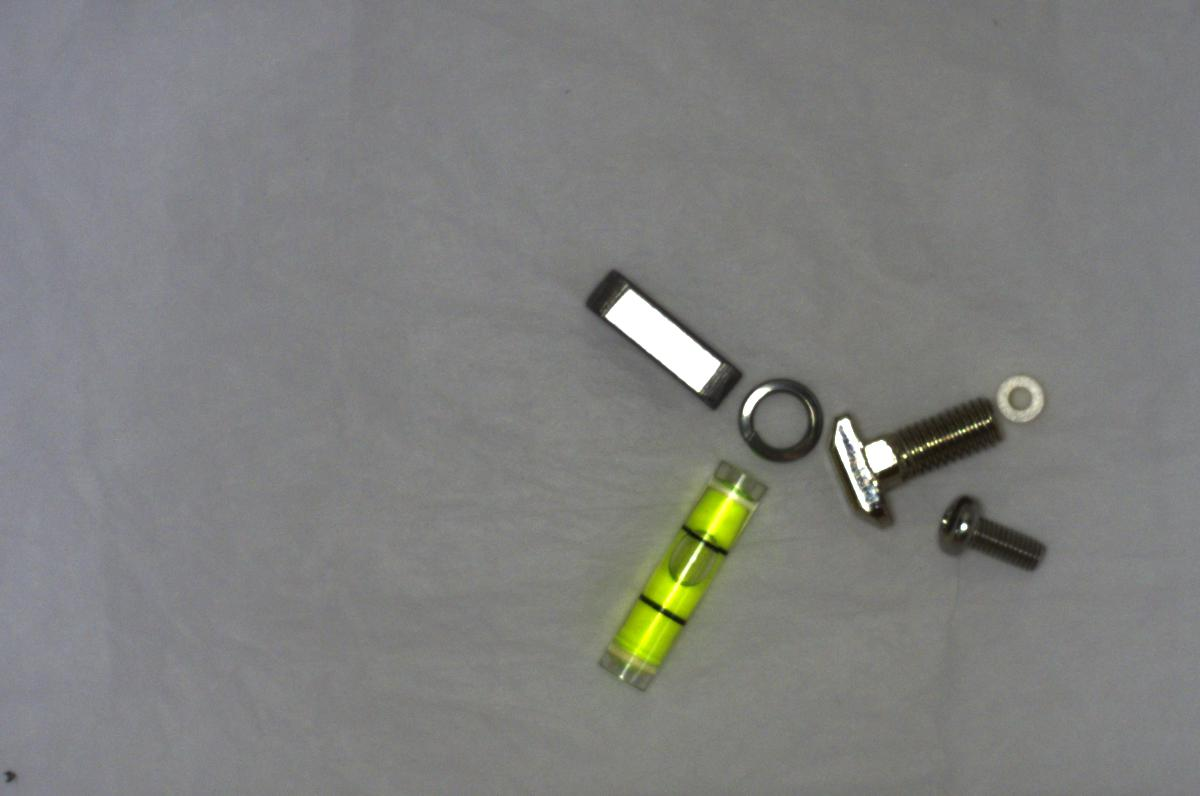Horizontal bubble: (596, 442, 770, 695)
Keybar: (583, 271, 734, 408)
Plastic cushion pillar: (989, 363, 1053, 428)
Round head screw: (928, 487, 1047, 573)
Spring washer: (737, 367, 825, 463)
T-shaped screw: (817, 369, 1010, 523)
